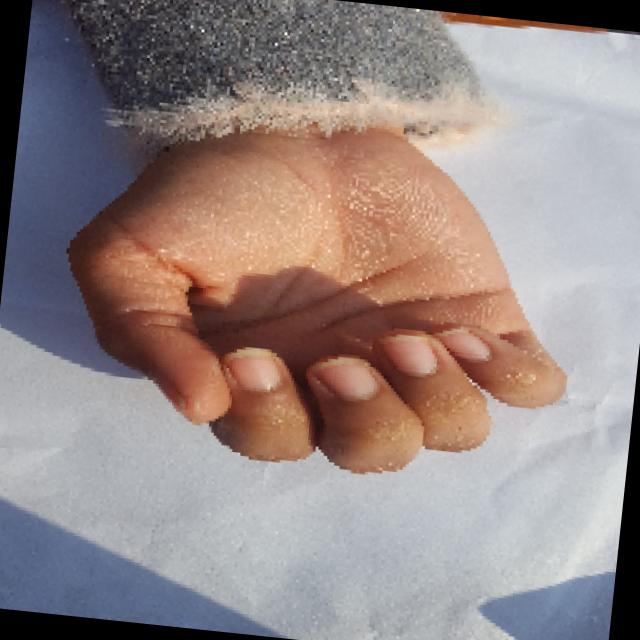Nail: (313, 357, 378, 401), (379, 333, 438, 377), (224, 347, 280, 391), (438, 328, 490, 362)
